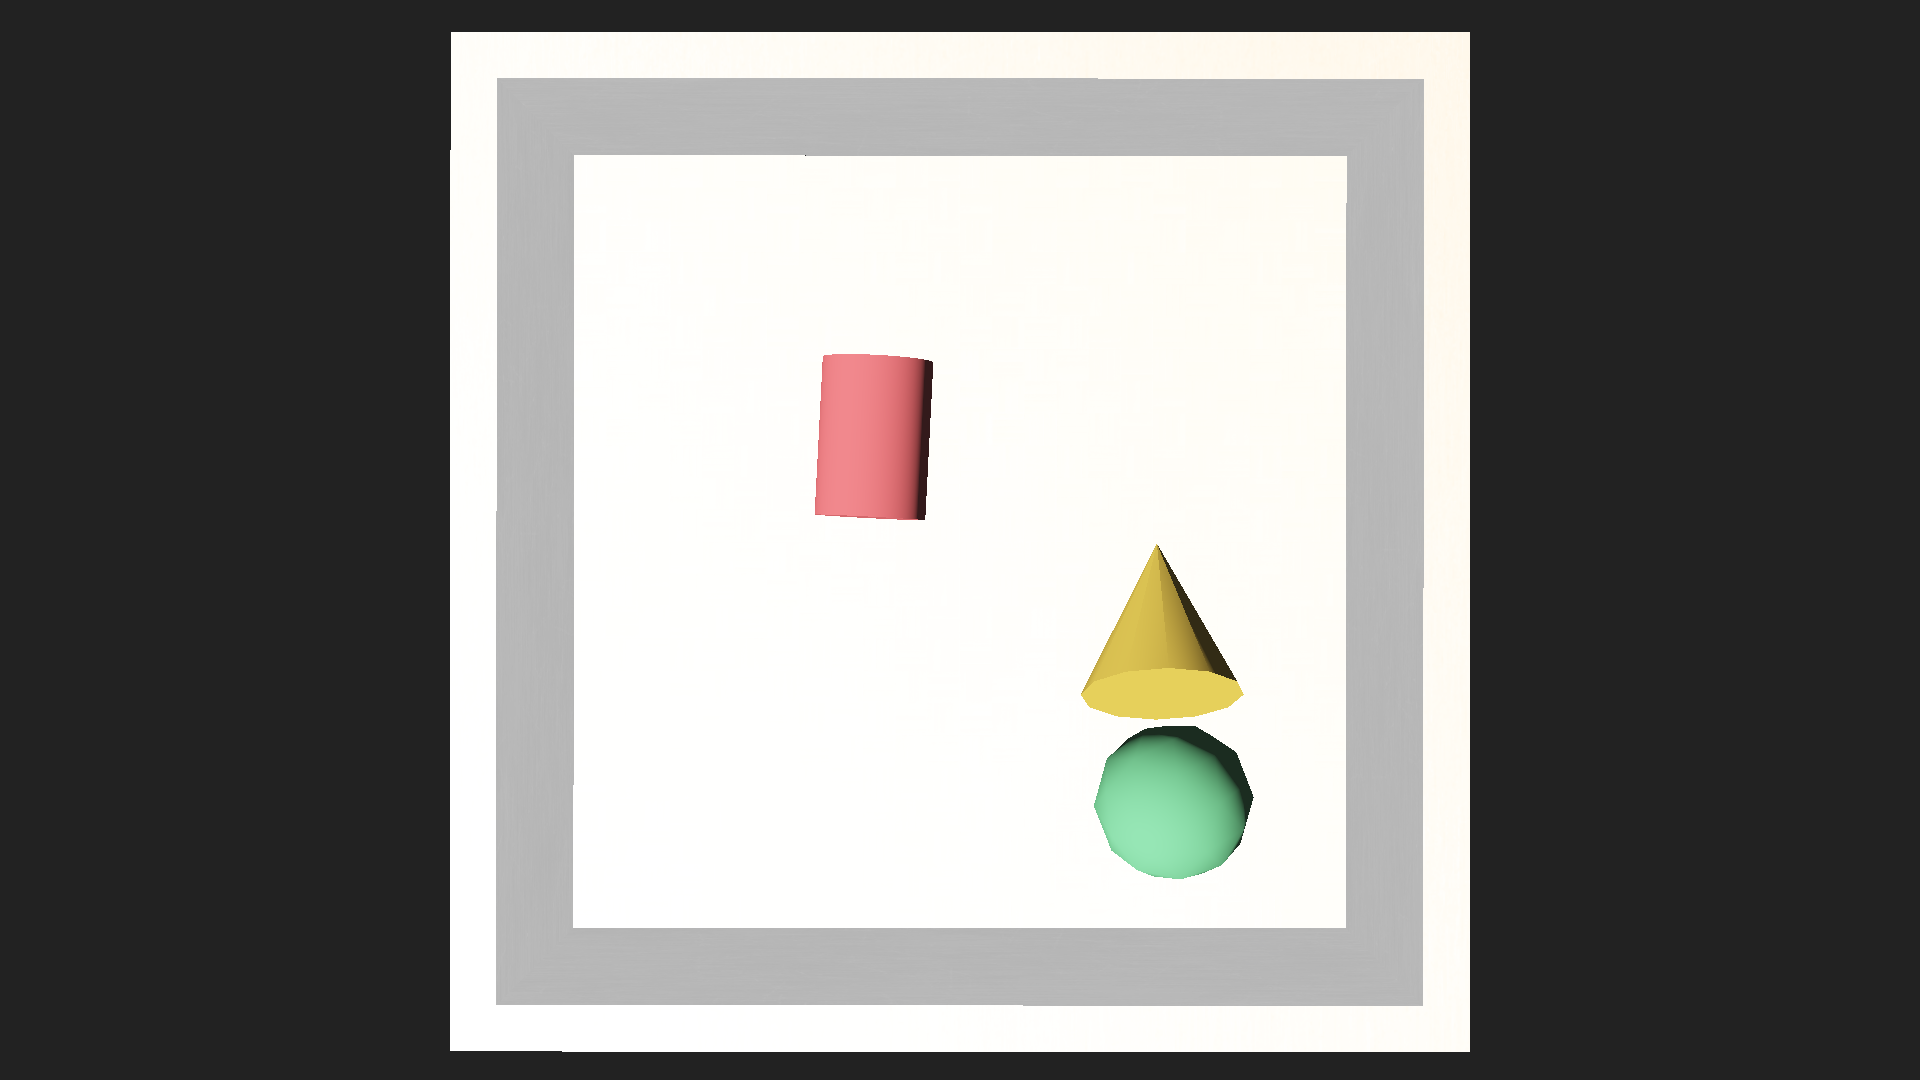cone: (811, 352, 934, 521)
cylinder: (1081, 514, 1244, 728)
sphere: (1093, 720, 1253, 880)
